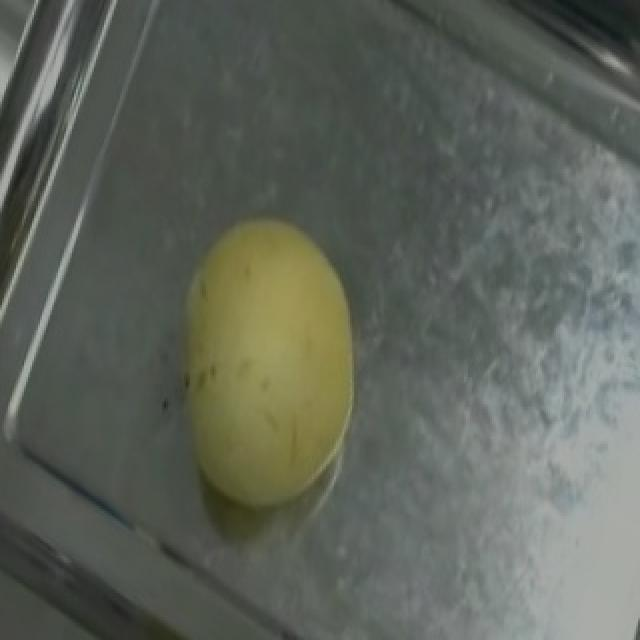Fruit: (126, 178, 404, 546)
